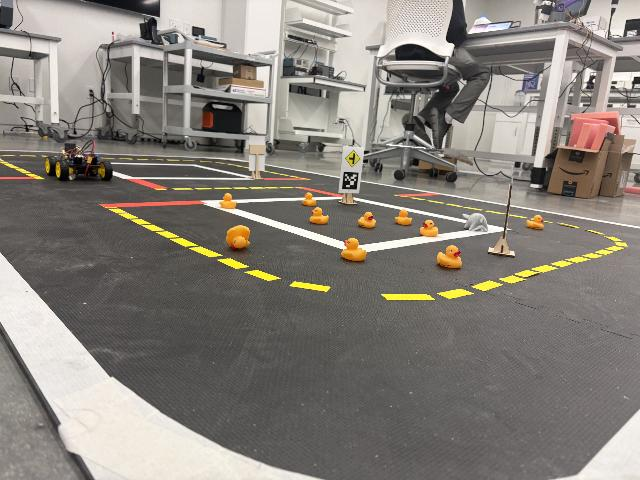duck: (341, 236, 368, 264), (436, 244, 463, 269), (226, 225, 251, 251), (419, 218, 439, 238), (309, 208, 329, 226), (526, 214, 545, 232), (359, 211, 376, 229), (395, 208, 412, 226), (220, 193, 237, 209), (301, 193, 316, 207)
l_intersection: (339, 145, 363, 205)
mouse: (462, 212, 489, 232)
redline: (101, 200, 205, 206), (299, 184, 342, 196), (127, 178, 170, 189), (398, 191, 443, 197), (0, 176, 34, 181), (265, 177, 308, 180)
whiteline: (198, 163, 250, 182), (369, 237, 424, 251), (111, 161, 198, 169), (412, 207, 460, 219), (364, 199, 394, 209), (113, 170, 128, 180), (440, 233, 465, 238)
yellowline: (105, 206, 224, 270), (224, 257, 332, 296), (479, 263, 589, 293), (555, 221, 629, 265), (379, 292, 480, 301), (102, 155, 213, 163), (0, 157, 38, 175), (172, 185, 296, 190), (213, 158, 249, 170), (0, 153, 46, 159), (267, 168, 297, 177)
